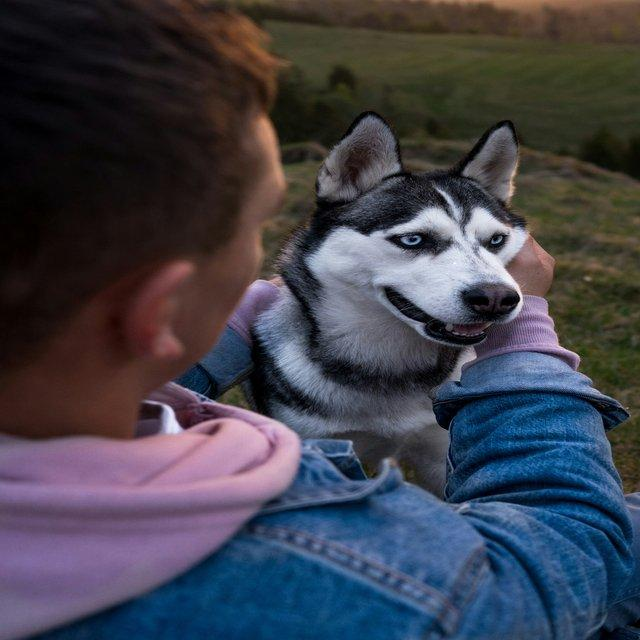husky: (243, 108, 529, 500)
